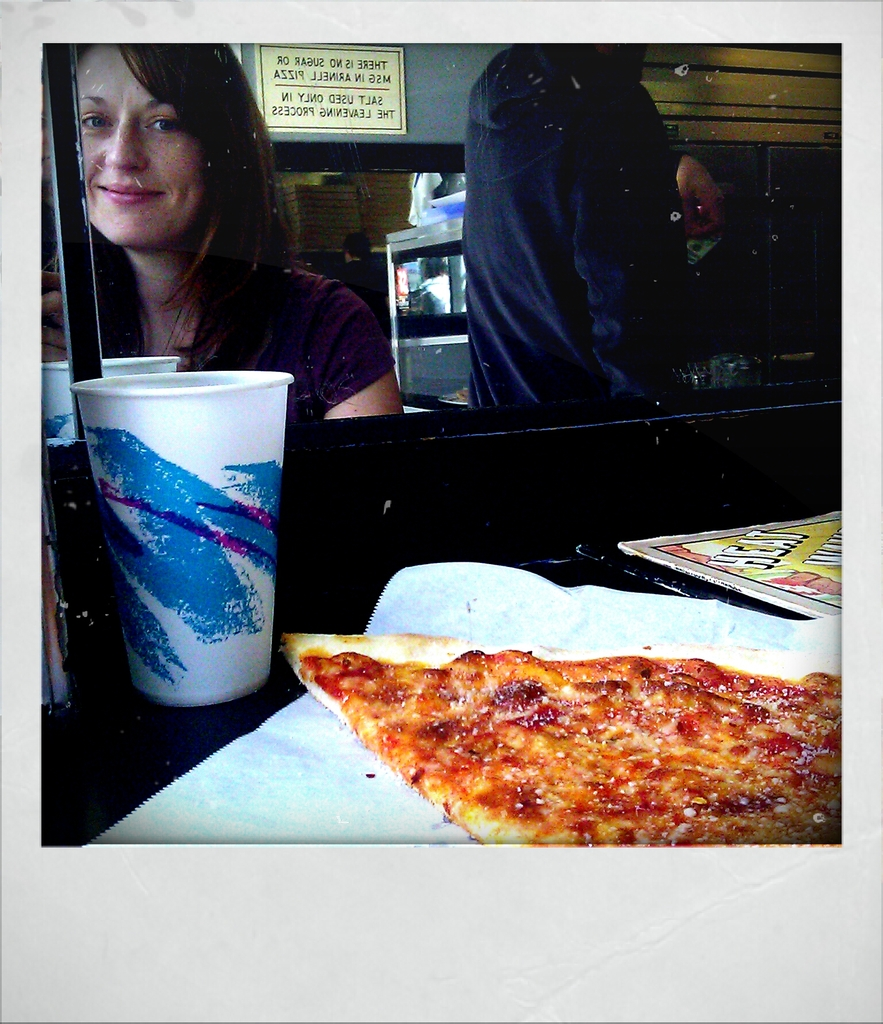Pizza: (274, 627, 838, 853)
